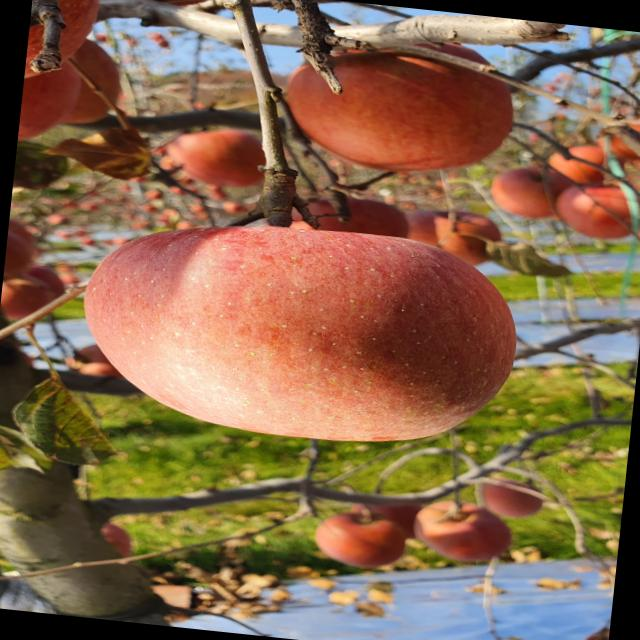fresh: (60, 192, 535, 470)
